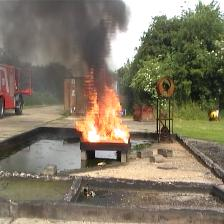fire: (75, 68, 131, 144)
